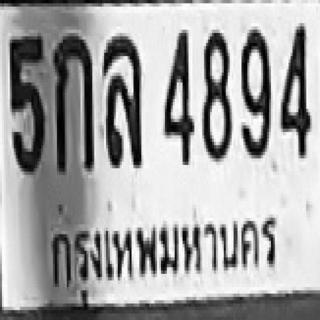A01: (53, 33, 92, 172)
A36: (103, 33, 142, 165)
N04: (279, 20, 310, 155), (162, 28, 193, 163)
N05: (8, 33, 43, 172)
N08: (200, 28, 230, 160)
N09: (240, 26, 269, 155)
P04: (37, 195, 285, 314)
